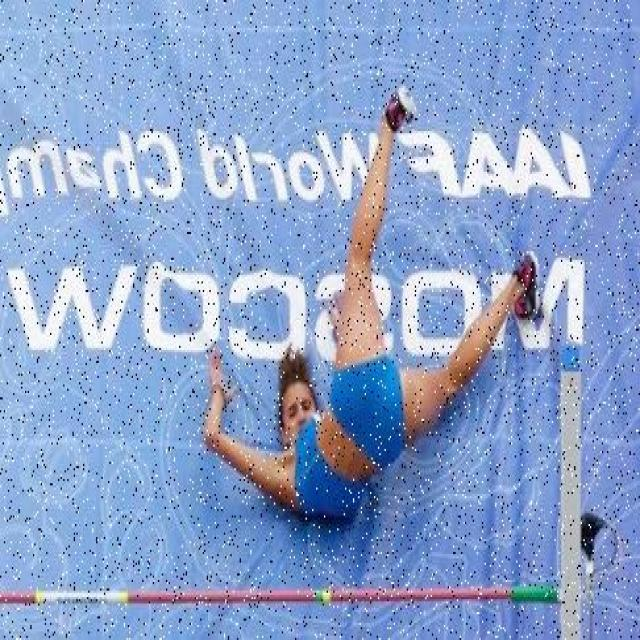fall: (202, 168, 510, 524)
